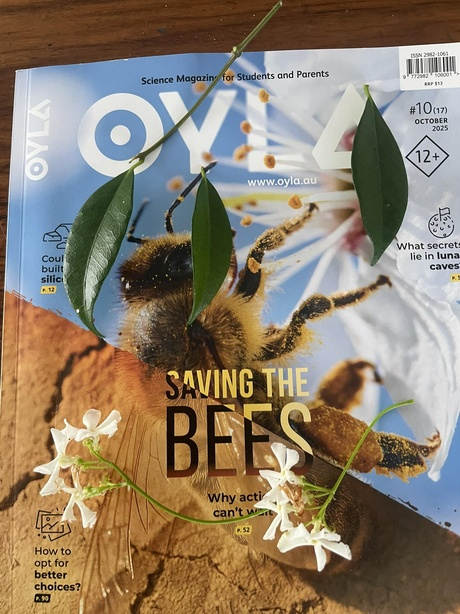leaf: (61, 145, 148, 343), (345, 85, 409, 267), (178, 165, 237, 331)
